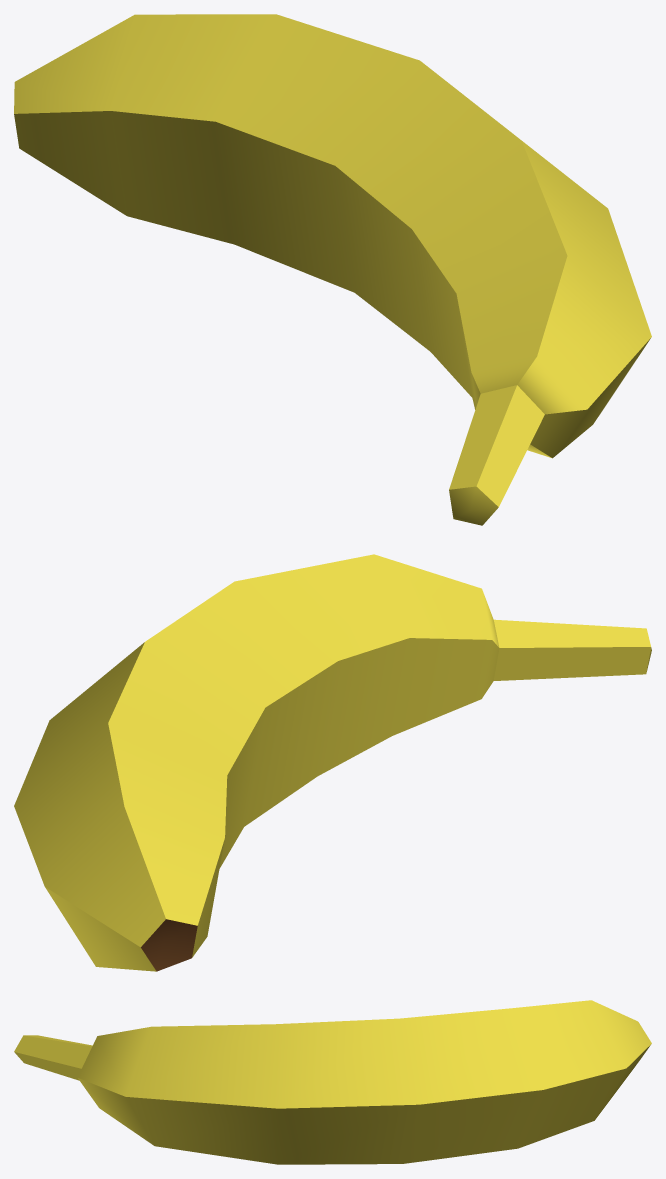
File: Asset_Banana.fbx
3 renders of one model, top to bottom at view 1: azimuth 30°, elevation 25°; view 2: azimuth 150°, elevation 25°; view 3: azimuth 270°, elevation 25°, orthographic. The views are drawn at different scales.
Visible parts, largest first — view 1: Asset_Banana; view 2: Asset_Banana; view 3: Asset_Banana.
Boxes of the visible parts, left/top/right/bottom form: Asset_Banana: left=14, top=14, right=651, bottom=525; Asset_Banana: left=14, top=554, right=651, bottom=971; Asset_Banana: left=14, top=1000, right=651, bottom=1164.
Size of the model in its own units: 10.35 by 6.11 by 26.01.
